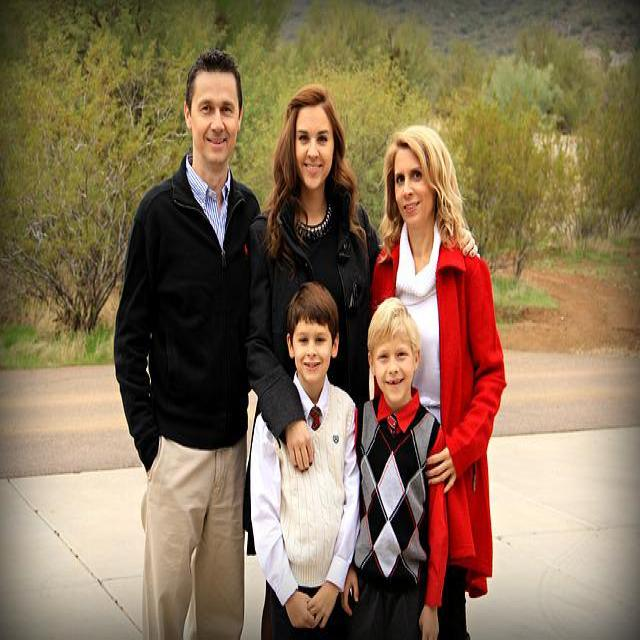adult: (113, 49, 261, 640), (248, 82, 383, 640), (371, 123, 506, 640)
child: (250, 279, 360, 640), (341, 297, 452, 640)
